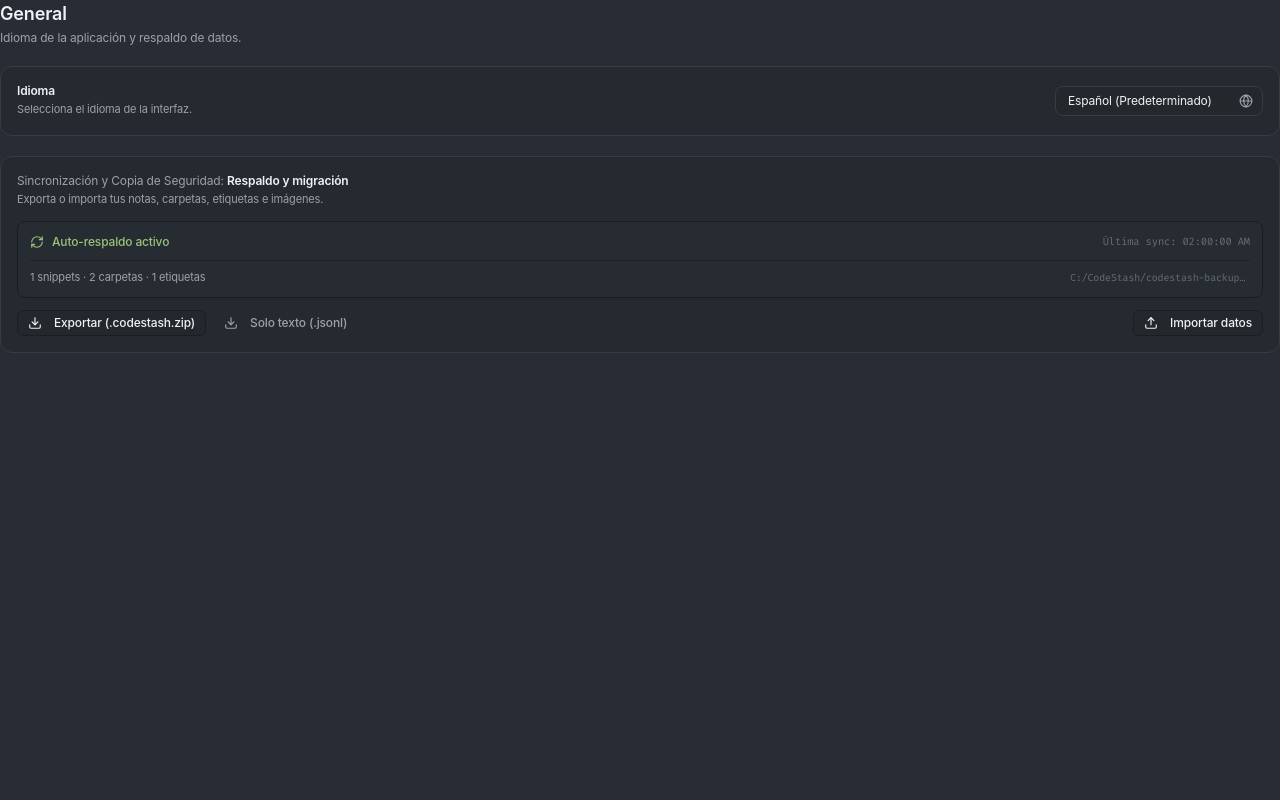
it: Backup & CRUD Auto-Synchronization (NDJSON .jsonl) › displays confirmation modal before importing backup in GeneralSettings and updates stores on confirm
This screenshot has width=1280, height=800.
// Click "Importar datos" button
Click the button with test id "import-backup-btn" at (1198, 323), box 1133,310 -> 1263,336
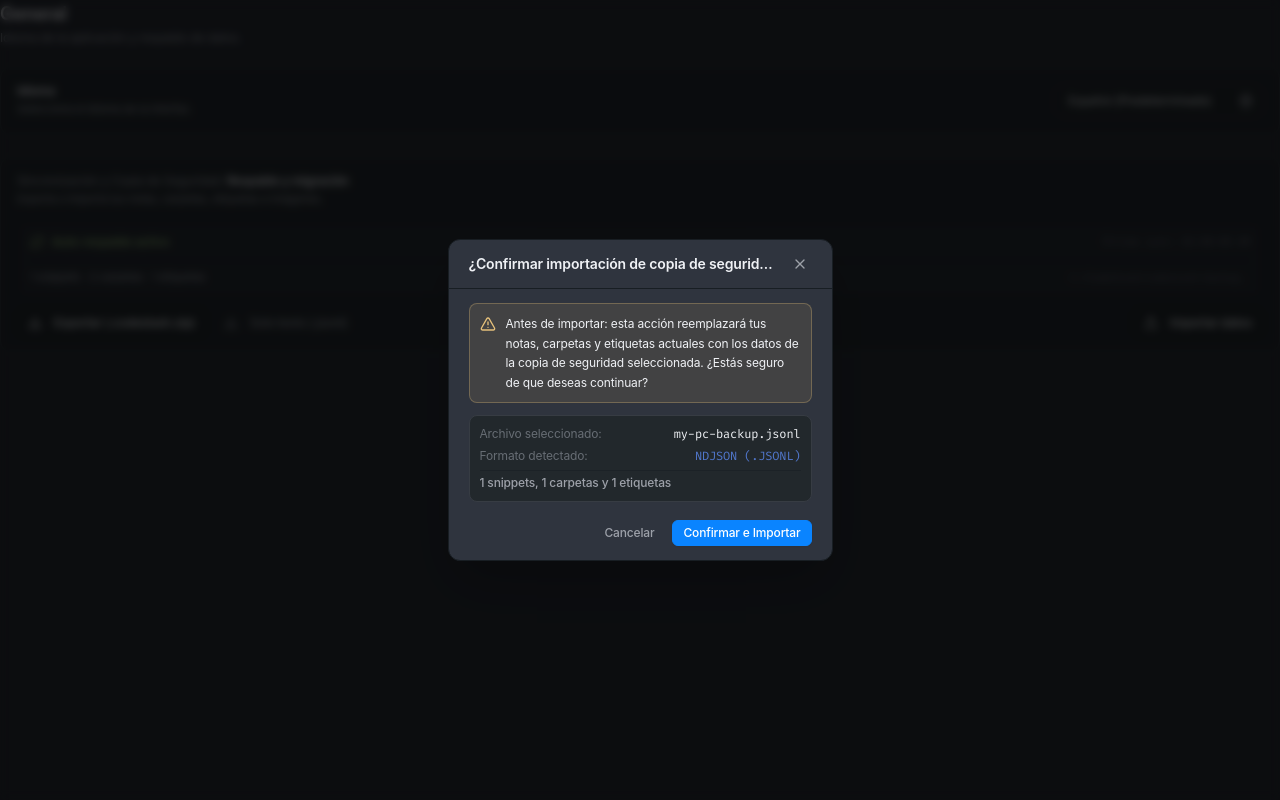
Now the element with test id "backup-import-confirm-modal" is shown, box 468,303 -> 812,546
Now the text "my-pc-backup.jsonl" is shown, box 674,426 -> 800,442
Now the text "1 snippets, 1 carpetas y 1 etiquetas" is shown, box 480,475 -> 671,490
// Confirm the import
Click the button with test id "confirm-import-backup-btn" at (742, 533), box 672,520 -> 812,546
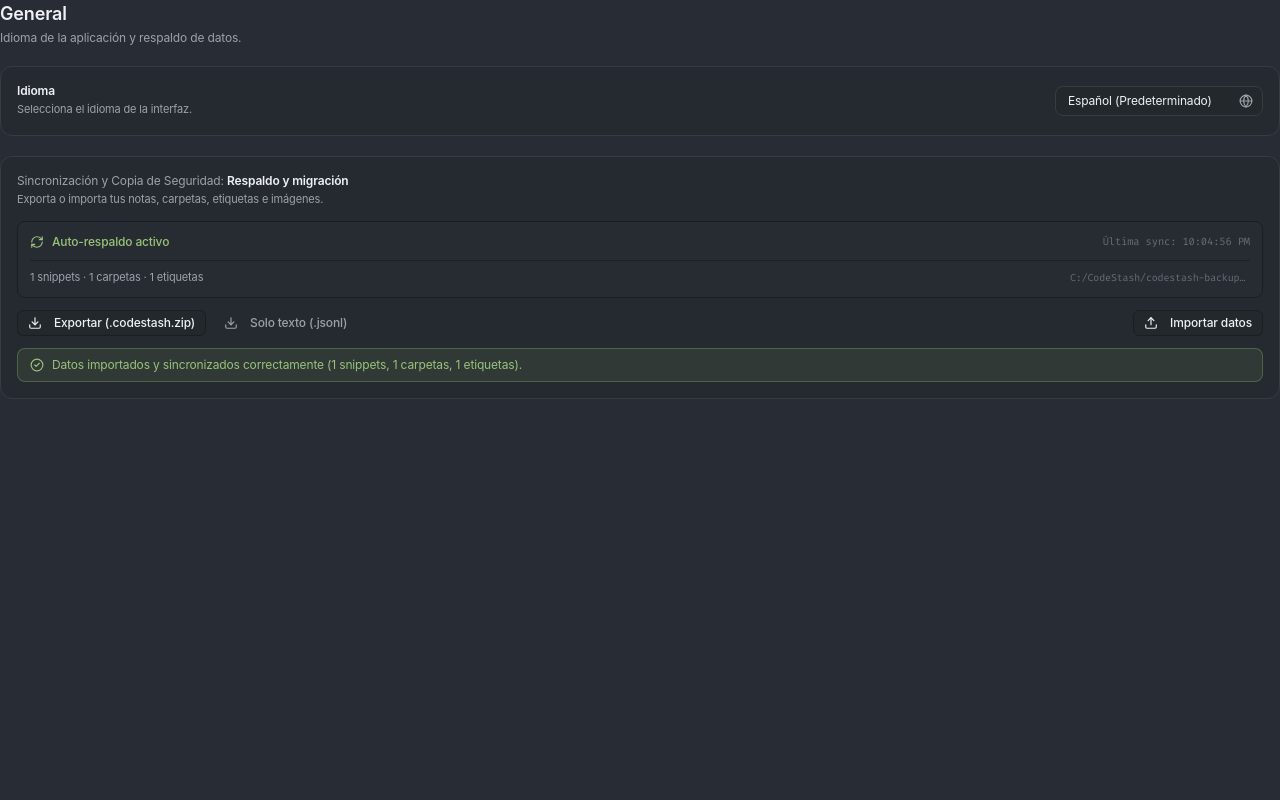
Now the element with test id "backup-import-confirm-modal" is gone
